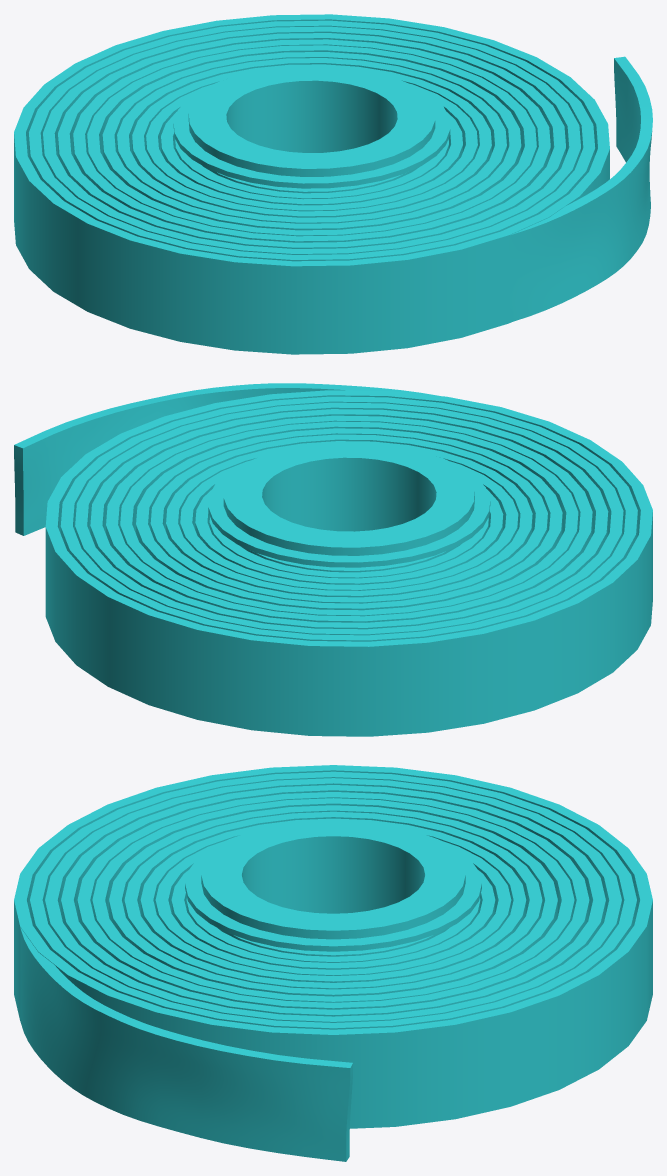
Rendered from plaster roll.fbx.
3 views of the same model, one above another, from view 1: azimuth 30°, elevation 25°; view 2: azimuth 150°, elevation 25°; view 3: azimuth 270°, elevation 25° (orthographic). The views are drawn at different scales.
Parts seen in each view (by area): view 1: Circle.006, Circle.009, Circle.008; view 2: Circle.006, Circle.009, Circle.008; view 3: Circle.006, Circle.008, Circle.009.
Part boxes in pixels (x1=…): Circle.006: x1=14, y1=14, x2=609, y2=354; Circle.009: x1=173, y1=65, x2=450, y2=188; Circle.008: x1=509, y1=56, x2=652, y2=322; Circle.006: x1=45, y1=390, x2=652, y2=736; Circle.009: x1=208, y1=441, x2=490, y2=567; Circle.008: x1=14, y1=383, x2=458, y2=535; Circle.006: x1=14, y1=765, x2=652, y2=1128; Circle.008: x1=20, y1=918, x2=352, y2=1161; Circle.009: x1=185, y1=819, x2=481, y2=951.
Bounding box in the file's own units: 0.0465 × 0.0103 × 0.0414.
